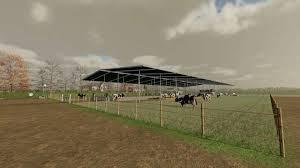cow: (174, 94, 198, 110), (201, 92, 214, 102), (77, 92, 86, 100), (216, 92, 223, 98)
